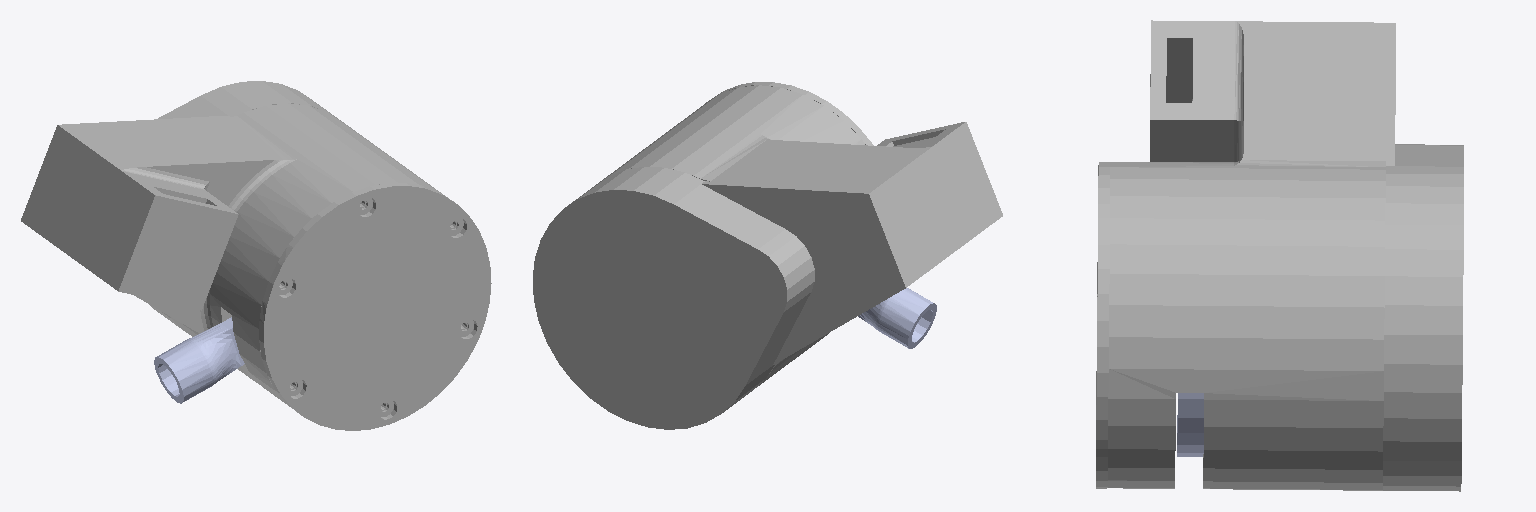
robot.urdf — hip_assembly:
<?xml version="1.0" encoding="utf-8"?>
<!-- This URDF was automatically created by SolidWorks to URDF Exporter! Originally created by [author] ([email redacted]) 
     Commit Version: 1.6.0-1-g15f4949  Build Version: 1.6.7594.29634
     For more information, please see http://wiki.ros.org/sw_urdf_exporter -->
<robot
  name="hip_assembly">
  <link
    name="Link_1">
    <inertial>
      <origin
        xyz="0 0 1" 
        rpy="0 0 0" />
        <!-- Previous values for xyz: -0.15651 0.16652 0.12063--> 
      <mass
        value="1.4011" />
      <inertia
        ixx="0.0057559"
        ixy="0.00040652"
        ixz="0.0015393"
        iyy="0.01142"
        iyz="-0.00015938"
        izz="0.0087626" />
    </inertial>
    <visual>
      <origin
        xyz="0 0 0"
        rpy="0 0 0" />
      <geometry>
        <mesh
          filename="package://hip_assembly/meshes/Link_1.STL" />
      </geometry>
      <material
        name="">
        <color
          rgba="0.75294 0.75294 0.75294 1" />
      </material>
    </visual>
    <collision>
      <origin
        xyz="0 0 0"
        rpy="0 0 0" />
      <geometry>
        <mesh
          filename="package://hip_assembly/meshes/Link_1.STL" />
      </geometry>
    </collision>
  </link>
  <link
    name="Link_2">
    <inertial>
      <origin
        xyz="-6.2943E-06 -0.010885 -0.024653"
        rpy="0 0 0" />
      <mass
        value="0.35214" />
      <inertia
        ixx="0.00079842"
        ixy="-1.0558E-07"
        ixz="1.2126E-08"
        iyy="0.00043007"
        iyz="1.9952E-05"
        izz="0.0011932" />
    </inertial>
    <visual>
      <origin
        xyz="0 0 0"
        rpy="0 0 0" />
      <geometry>
        <mesh
          filename="package://hip_assembly/meshes/Link_2.STL" />
      </geometry>
      <material
        name="">
        <color
          rgba="0.79216 0.81961 0.93333 1" />
      </material>
    </visual>
    <collision>
      <origin
        xyz="0 0 0"
        rpy="0 0 0" />
      <geometry>
        <mesh
          filename="package://hip_assembly/meshes/Link_2.STL" />
      </geometry>
    </collision>
  </link>
  <joint
    name="Joint_1"
    type="revolute">
    <origin
      xyz="-0.12828 0.11233 0.10668"
      rpy="1.542 1.2658 -0.030421" />
    <parent
      link="Link_1" />
    <child
      link="Link_2" />
    <axis
      xyz="0 0 1" />
    <limit
      lower="0"
      upper="3.14"
      effort="50"
      velocity="4" />
  </joint>
</robot>

--- What the picture shows (computed from the rendered views, not written in the file) ---
The picture shows the robot from 3 angles, left to right: view 1: azimuth 30°, elevation 25°; view 2: azimuth 150°, elevation 25°; view 3: azimuth 270°, elevation 25°; orthographic projection.
Robot: hip_assembly — 2 links, 1 joints (1 revolute); root link Link_1; default pose: every joint at zero.
Links seen in each view (by area): view 1: Link_1, Link_2; view 2: Link_1, Link_2; view 3: Link_1, Link_2.
Boxes of the visible links, bbox=[...] form: Link_1: bbox=[21, 81, 491, 430]; Link_2: bbox=[154, 317, 244, 403]; Link_1: bbox=[533, 82, 1002, 429]; Link_2: bbox=[858, 288, 936, 348]; Link_1: bbox=[1096, 20, 1463, 491]; Link_2: bbox=[1177, 393, 1203, 456].
Size in the robot's own frame: 0.271 by 0.1971 by 0.1967 metres.
Meshes: 2 distinct files referenced, 2 mesh visuals loaded (2 binary STL).